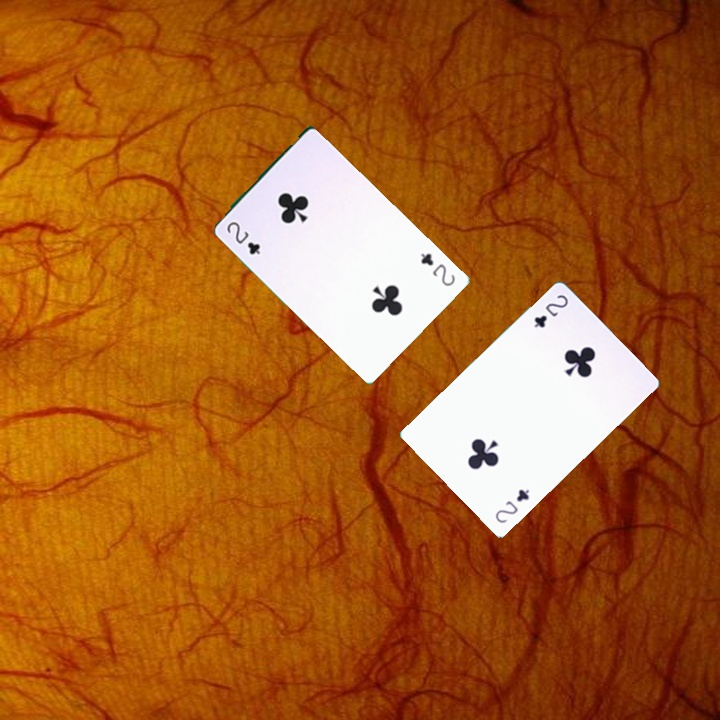2c: (491, 485, 532, 526), (416, 249, 458, 289), (223, 217, 263, 257), (530, 291, 571, 330)
